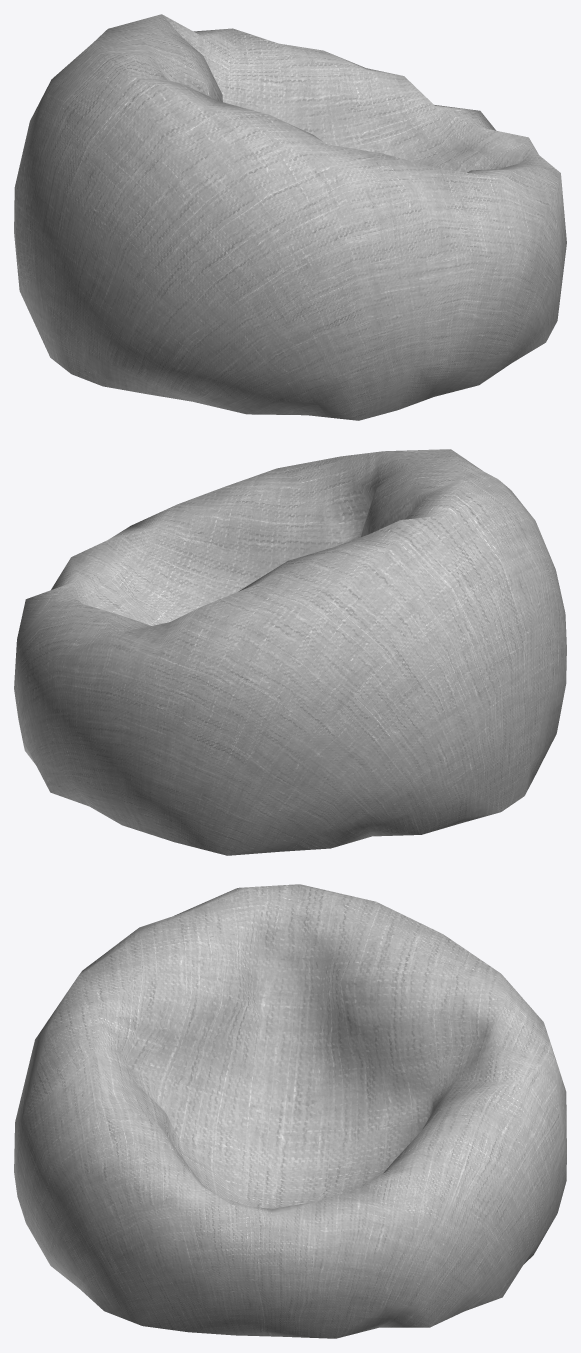
The model's file is Bean Bag 1.fbx.
3 views of the same model, one above another, from view 1: azimuth 30°, elevation 25°; view 2: azimuth 150°, elevation 25°; view 3: azimuth 270°, elevation 25° (orthographic).
Parts seen in each view (by area): view 1: Beanbag 1; view 2: Beanbag 1; view 3: Beanbag 1.
Boxes of the visible parts, x1,y1,x2,y2 form: Beanbag 1: (14,14,566,420); Beanbag 1: (14,449,566,855); Beanbag 1: (14,884,566,1338).
Bounding box in the file's own units: 201 × 112 × 204.
